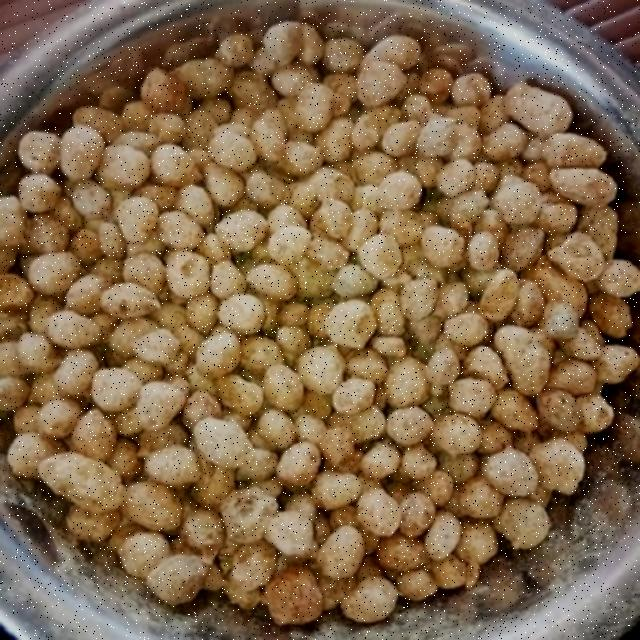Soy Chunks: (155, 126, 581, 526), (262, 19, 312, 68)
